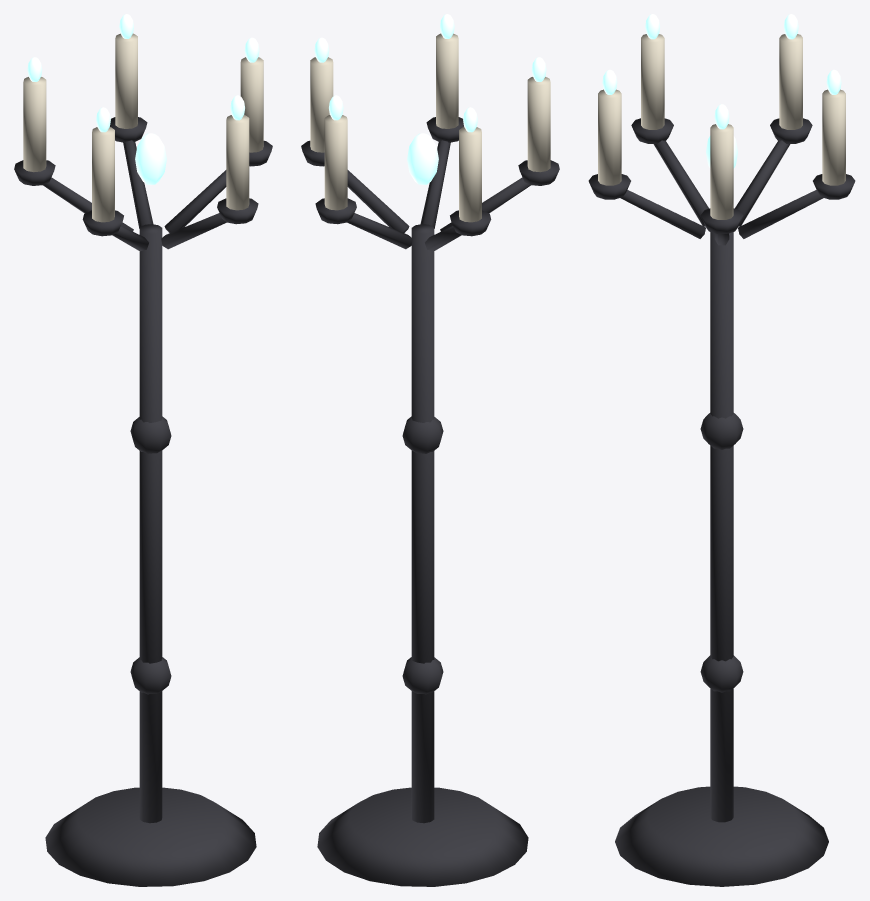
Rendered from candelabra_soul_flame.glb.
The picture shows the model from 3 angles, left to right: view 1: azimuth 30°, elevation 25°; view 2: azimuth 150°, elevation 25°; view 3: azimuth 270°, elevation 25°; orthographic projection.
Parts seen in each view (by area): view 1: GD_candelabra_soul_flame__m0, GD_candelabra_soul_flame__m1, GD_candelabra_soul_flame__m2; view 2: GD_candelabra_soul_flame__m0, GD_candelabra_soul_flame__m1, GD_candelabra_soul_flame__m2; view 3: GD_candelabra_soul_flame__m0, GD_candelabra_soul_flame__m1, GD_candelabra_soul_flame__m2.
Boxes of the visible parts, bbox=[...] form: GD_candelabra_soul_flame__m0: bbox=[14, 117, 272, 886]; GD_candelabra_soul_flame__m1: bbox=[23, 33, 263, 222]; GD_candelabra_soul_flame__m2: bbox=[27, 14, 259, 184]; GD_candelabra_soul_flame__m0: bbox=[301, 117, 559, 886]; GD_candelabra_soul_flame__m1: bbox=[310, 33, 550, 222]; GD_candelabra_soul_flame__m2: bbox=[314, 14, 546, 184]; GD_candelabra_soul_flame__m0: bbox=[588, 118, 855, 886]; GD_candelabra_soul_flame__m1: bbox=[598, 34, 845, 219]; GD_candelabra_soul_flame__m2: bbox=[602, 14, 841, 168].
Size of the model in its own units: 0.4741 by 1.62 by 0.4985.
